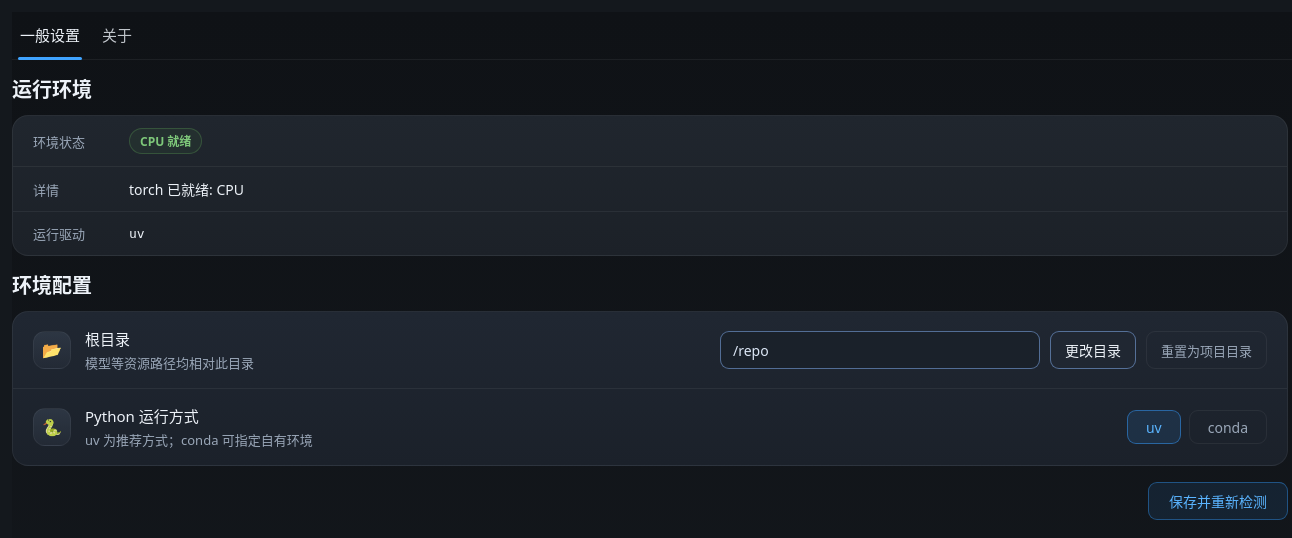
Scenario: SettingsPage › renders settings controls and switches tabs
expect the tab "一般设置" is shown: met, box [18,14,82,59]
expect the field named "工作目录路径" holds "/repo": met, box [720,331,1040,369]
Click the button "更改目录".
click(1093, 350)  # box [1050,331,1136,369]
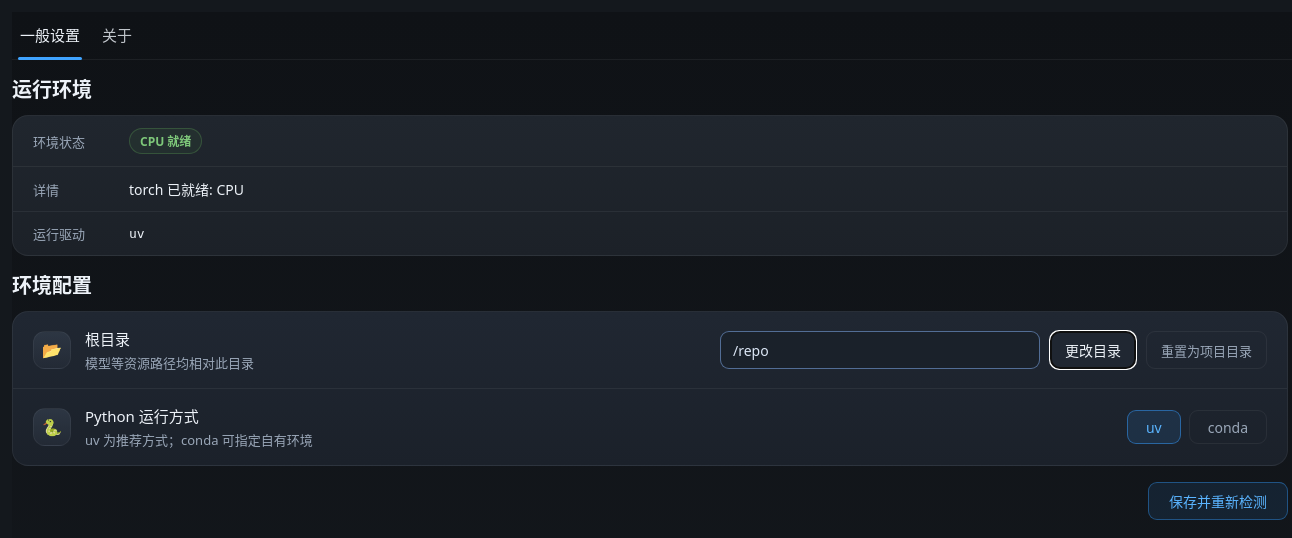
Click the button "重置为项目目录".
click(1206, 350)  # box [1146,331,1267,369]
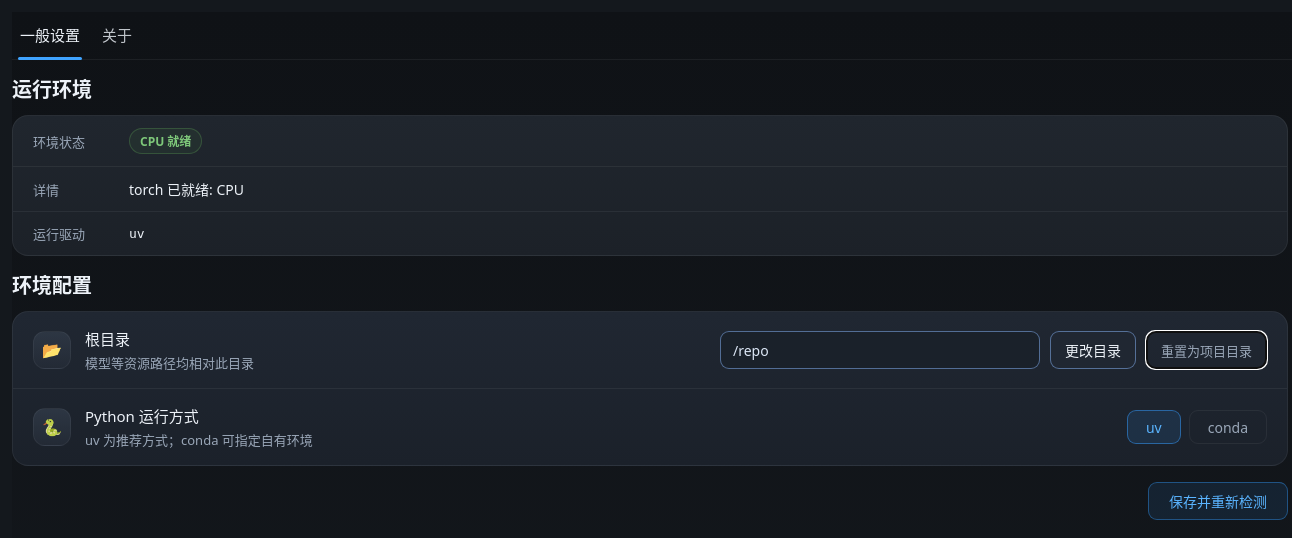
Click the button "保存并重新检测".
click(1218, 501)  # box [1148,482,1288,520]
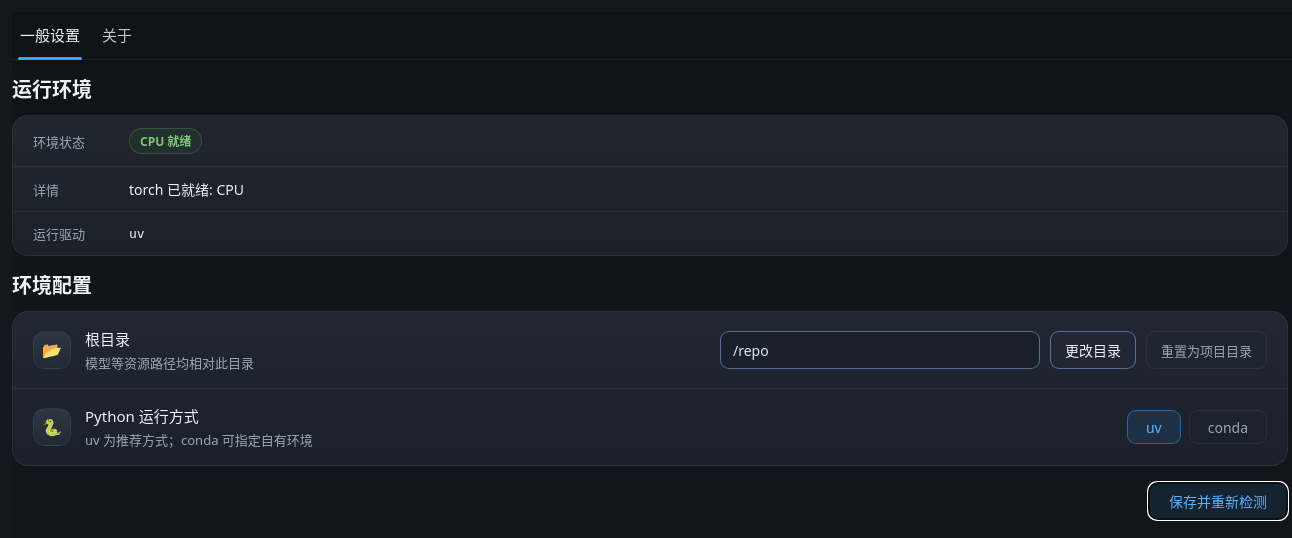
Click the tab "关于".
click(117, 36)  # box [100,14,134,59]
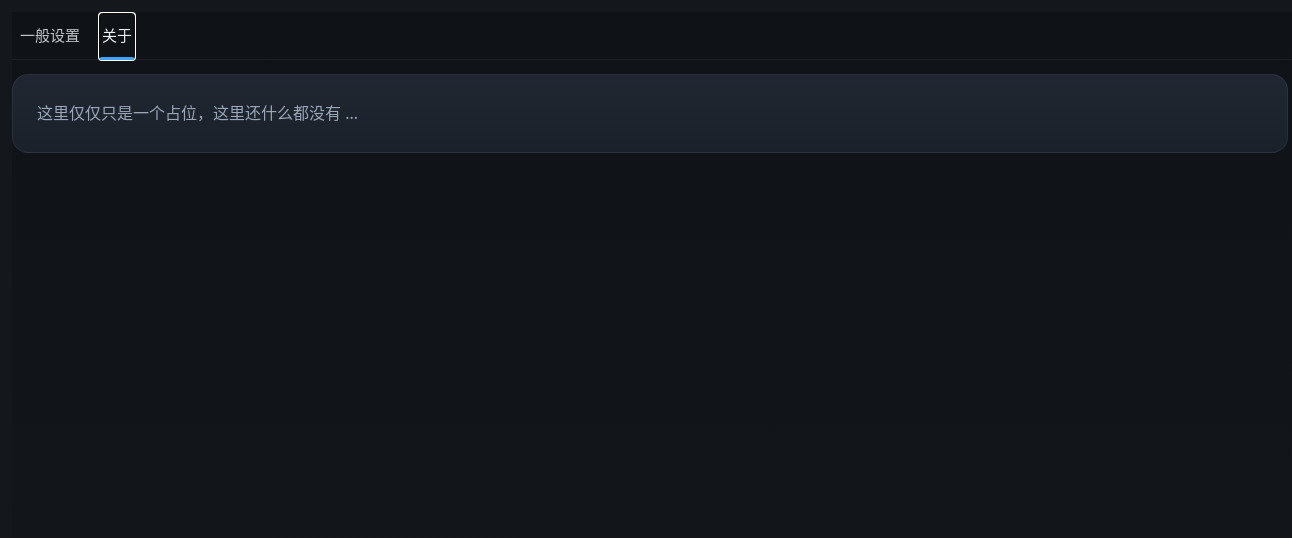
expect the text "这里仅仅只是一个占位，这里还什么都没有 ..." is shown: met, box [37,102,358,124]
